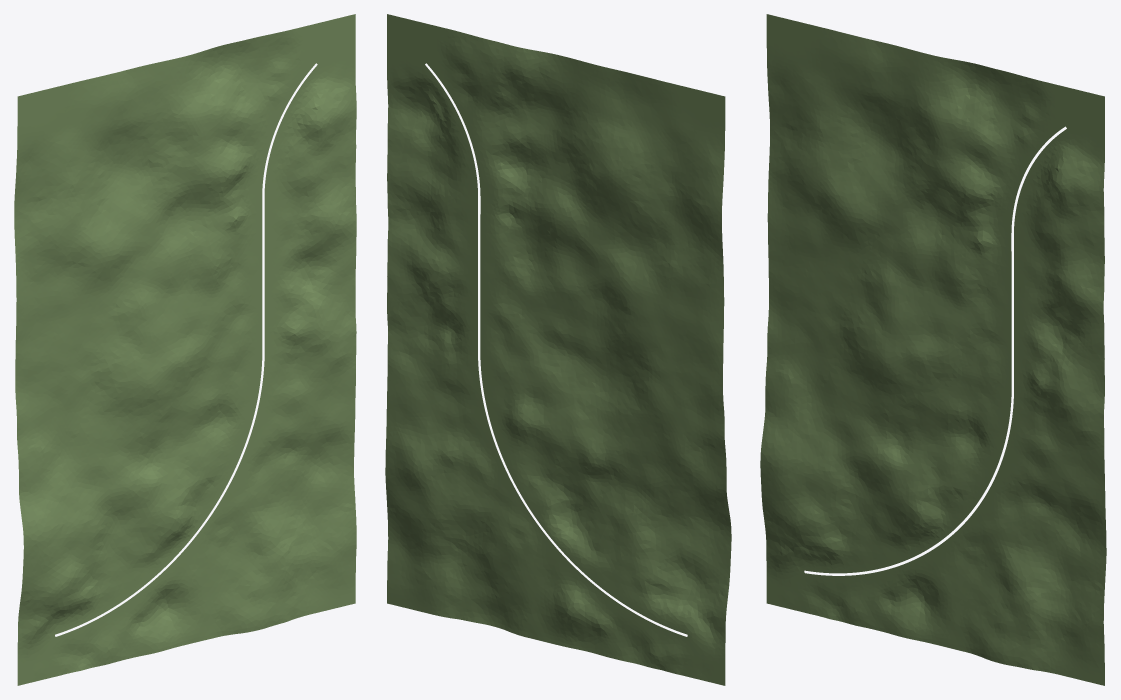
Rendered from AutobahnScenario.obj.
The picture shows the model from 3 angles, left to right: view 1: azimuth 30°, elevation 25°; view 2: azimuth 150°, elevation 25°; view 3: azimuth 330°, elevation 25°; orthographic projection.
Visible parts, largest first — view 1: Background; view 2: Background; view 3: Background.
Part boxes in pixels (x1=…): Background: x1=14, y1=14, x2=356, y2=685; Background: x1=385, y1=14, x2=731, y2=685; Background: x1=760, y1=14, x2=1106, y2=685.
Size of the model in its own units: 2702 by 4502 by 161.
